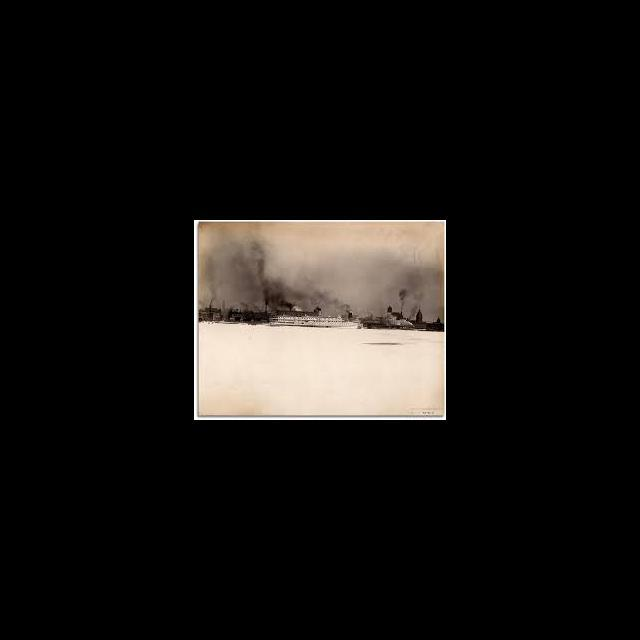Smoke: (200, 224, 289, 306), (292, 287, 350, 309)
